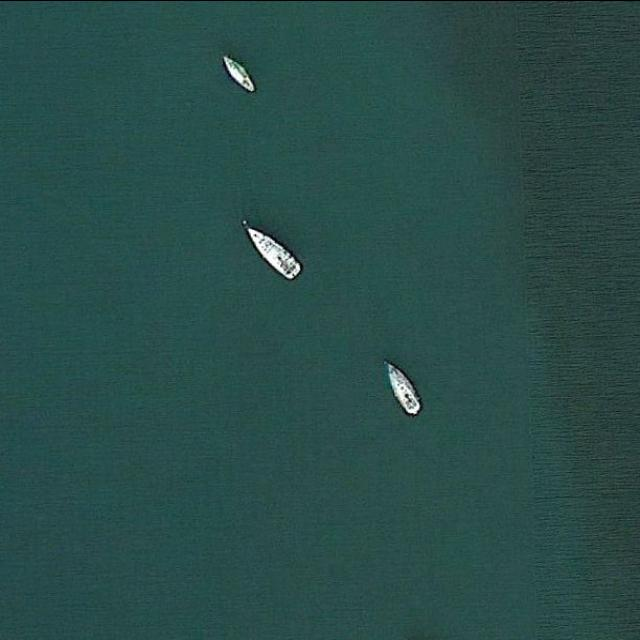ship: (234, 220, 302, 278), (382, 357, 419, 412), (220, 56, 256, 92)
